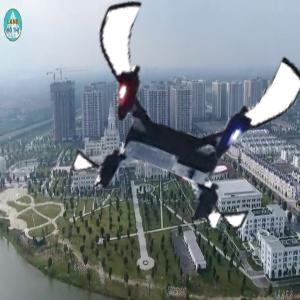drone: (70, 6, 288, 224)
